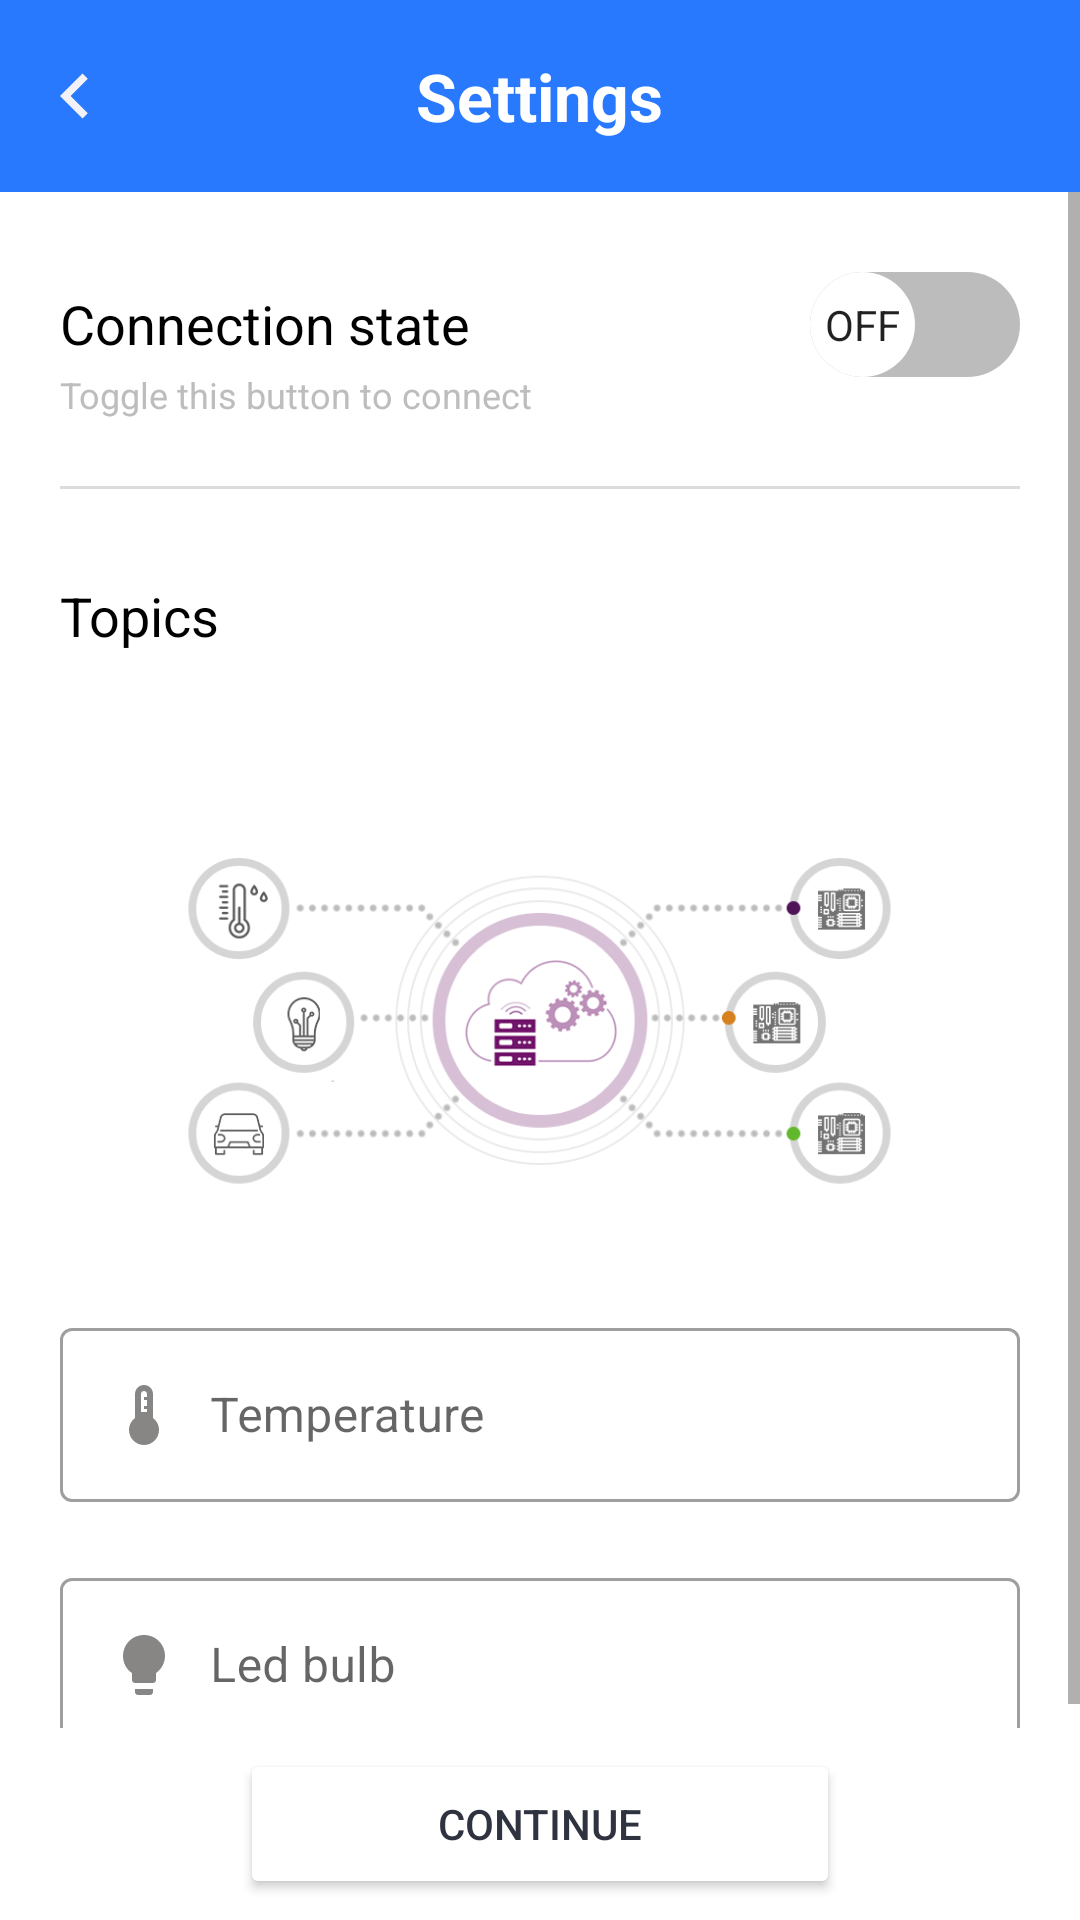

Icons on this 1080w x 1920h Android screen, each with the point to tap as (x,y):
keyboard arrow left: (74,96)
